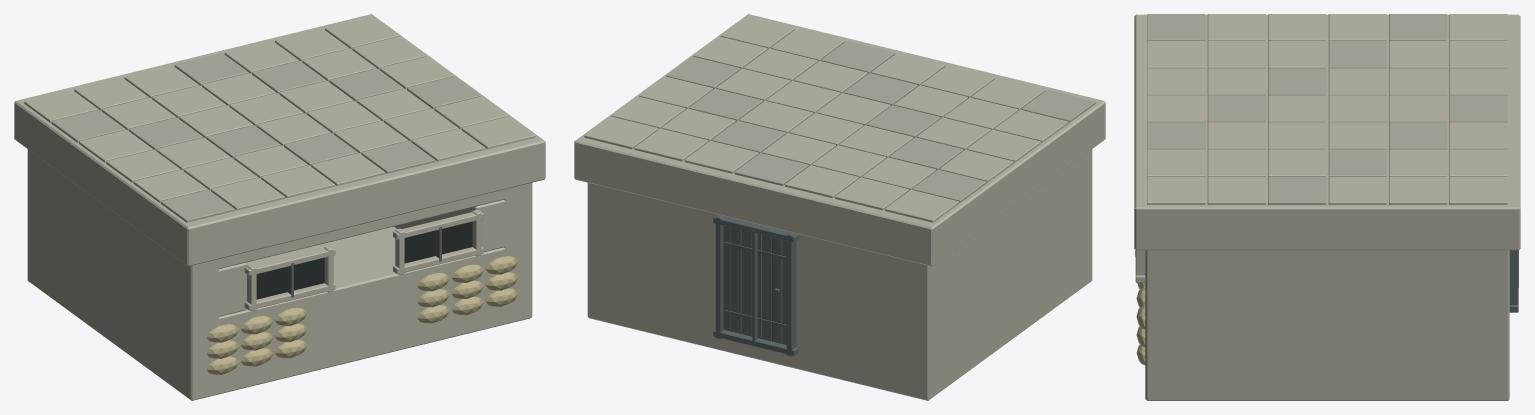
Rendered from bunker.glb.
3 renders of one model, left to right at view 1: azimuth 30°, elevation 25°; view 2: azimuth 150°, elevation 25°; view 3: azimuth 270°, elevation 25°, orthographic. The views are drawn at different scales.
Parts seen in each view (by area): view 1: bunker; view 2: bunker; view 3: bunker.
Part boxes in pixels (box(x1,y1,x2,y2)): bunker: box(14, 14, 545, 400); bunker: box(574, 14, 1105, 400); bunker: box(1134, 14, 1520, 400).
Bounding box in the file's own units: 6.3 × 3.05 × 5.3.
